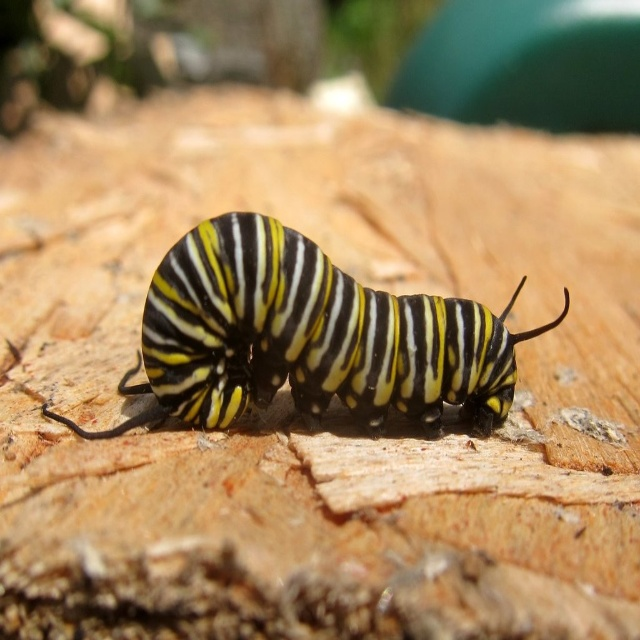Caterpillar: (9, 212, 569, 437)
